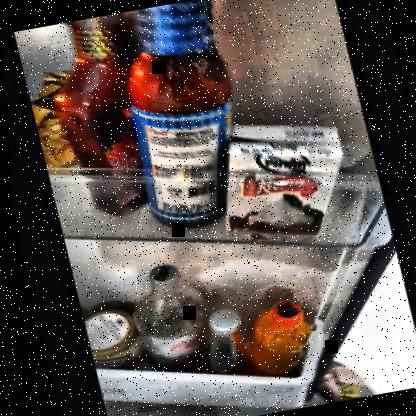heavy_cream: (214, 115, 346, 240)
